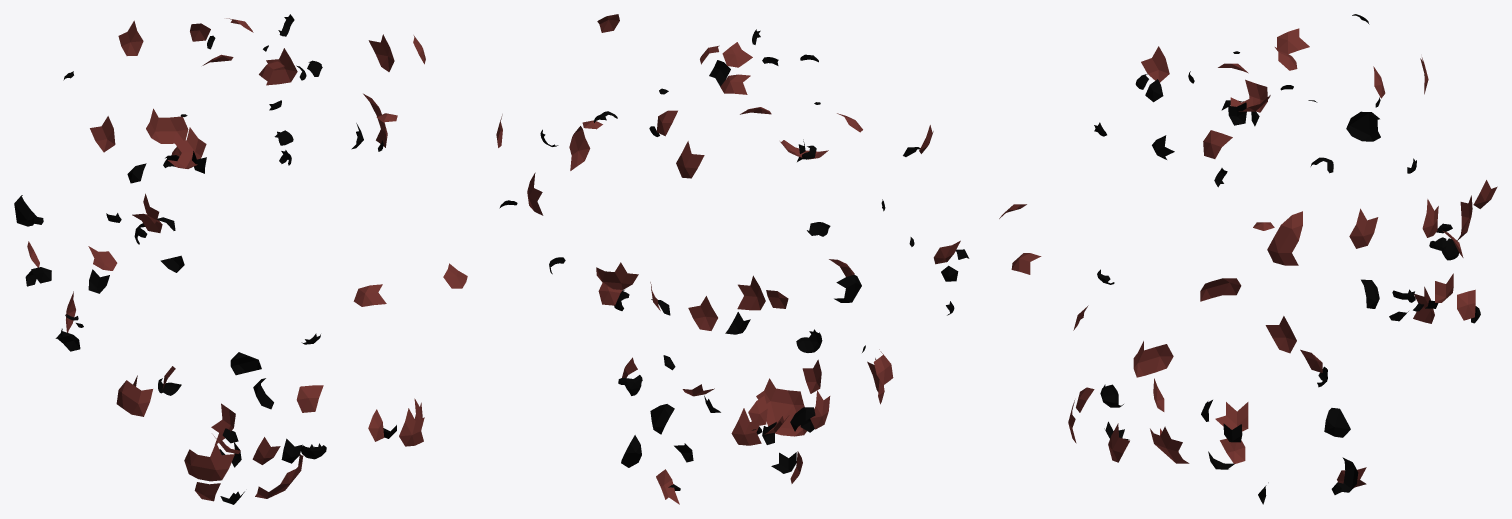
File: explode.f0027.glb
3 views of the same model, side by side, from view 1: azimuth 30°, elevation 25°; view 2: azimuth 150°, elevation 25°; view 3: azimuth 270°, elevation 25° (orthographic). The views are drawn at different scales.
Visible parts, largest first — view 1: Body.001; view 2: Body.001; view 3: Body.001.
Part boxes in pixels (x1,y1,x2,y2): Body.001: [14, 14, 467, 504]; Body.001: [496, 14, 969, 504]; Body.001: [999, 14, 1497, 504].
Bounding box in the file's own units: 11.01 × 11.35 × 11.25.
1 material, 1 textured.
